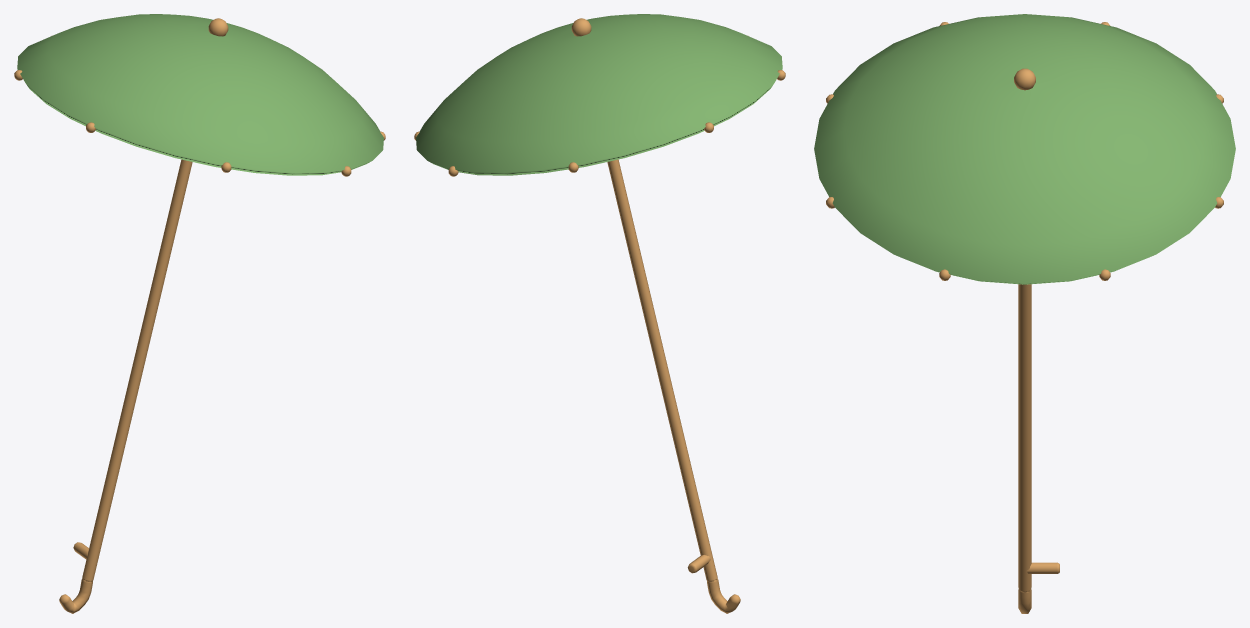
File: nook_inc_umbrella.glb
3 renders of one model, left to right at view 1: azimuth 30°, elevation 25°; view 2: azimuth 150°, elevation 25°; view 3: azimuth 270°, elevation 25°, orthographic. The views are drawn at different scales.
Visible parts, largest first — view 1: nook_inc_umbrella_ArmR; view 2: nook_inc_umbrella_ArmR; view 3: nook_inc_umbrella_ArmR.
Boxes of the visible parts, x1,y1,x2,y2 form: nook_inc_umbrella_ArmR: [14, 14, 385, 613]; nook_inc_umbrella_ArmR: [414, 14, 785, 613]; nook_inc_umbrella_ArmR: [814, 14, 1235, 613].
Size of the model in its own units: 0.8703 by 1.47 by 0.9.
